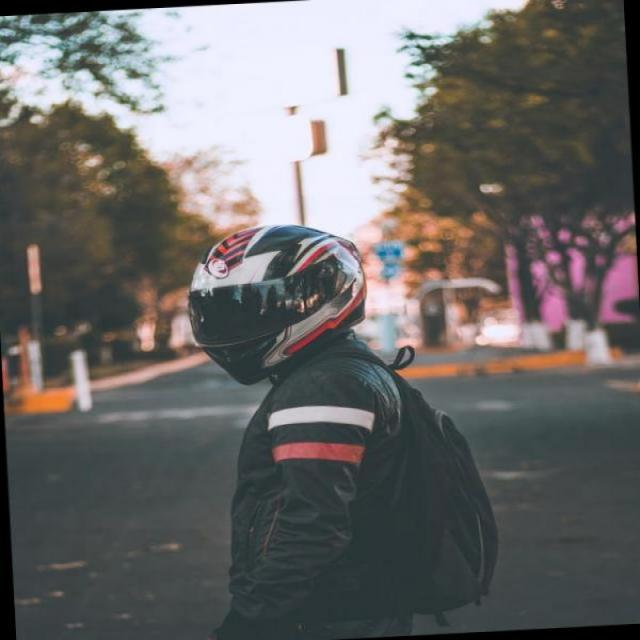Helmet: (174, 224, 401, 403)
